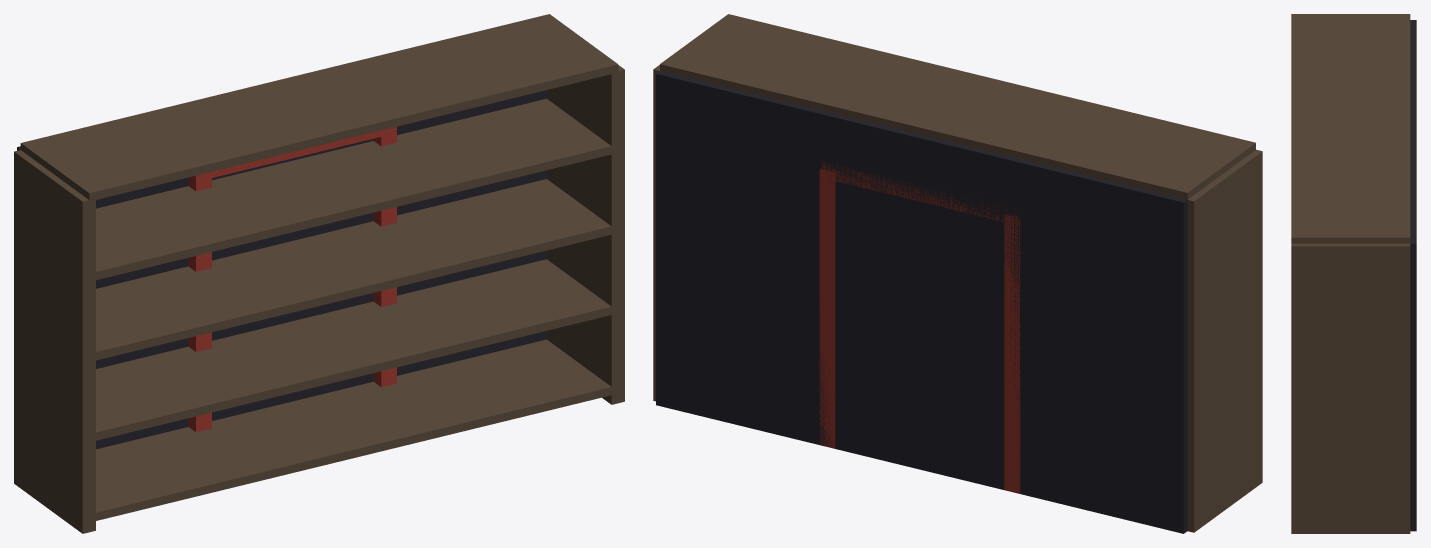
Rendered from s2_ninth_slot.glb.
The picture shows the model from 3 angles, left to right: view 1: azimuth 30°, elevation 25°; view 2: azimuth 150°, elevation 25°; view 3: azimuth 270°, elevation 25°; orthographic projection. The views are drawn at different scales.
Visible parts, largest first — view 1: s2_ninth_slot; view 2: s2_ninth_slot; view 3: s2_ninth_slot.
Boxes of the visible parts, bbox=[...] form: s2_ninth_slot: bbox=[14, 14, 624, 533]; s2_ninth_slot: bbox=[653, 14, 1262, 533]; s2_ninth_slot: bbox=[1291, 14, 1416, 533].
Bounding box in the file's own units: 4.1 × 2.45 × 0.95.
